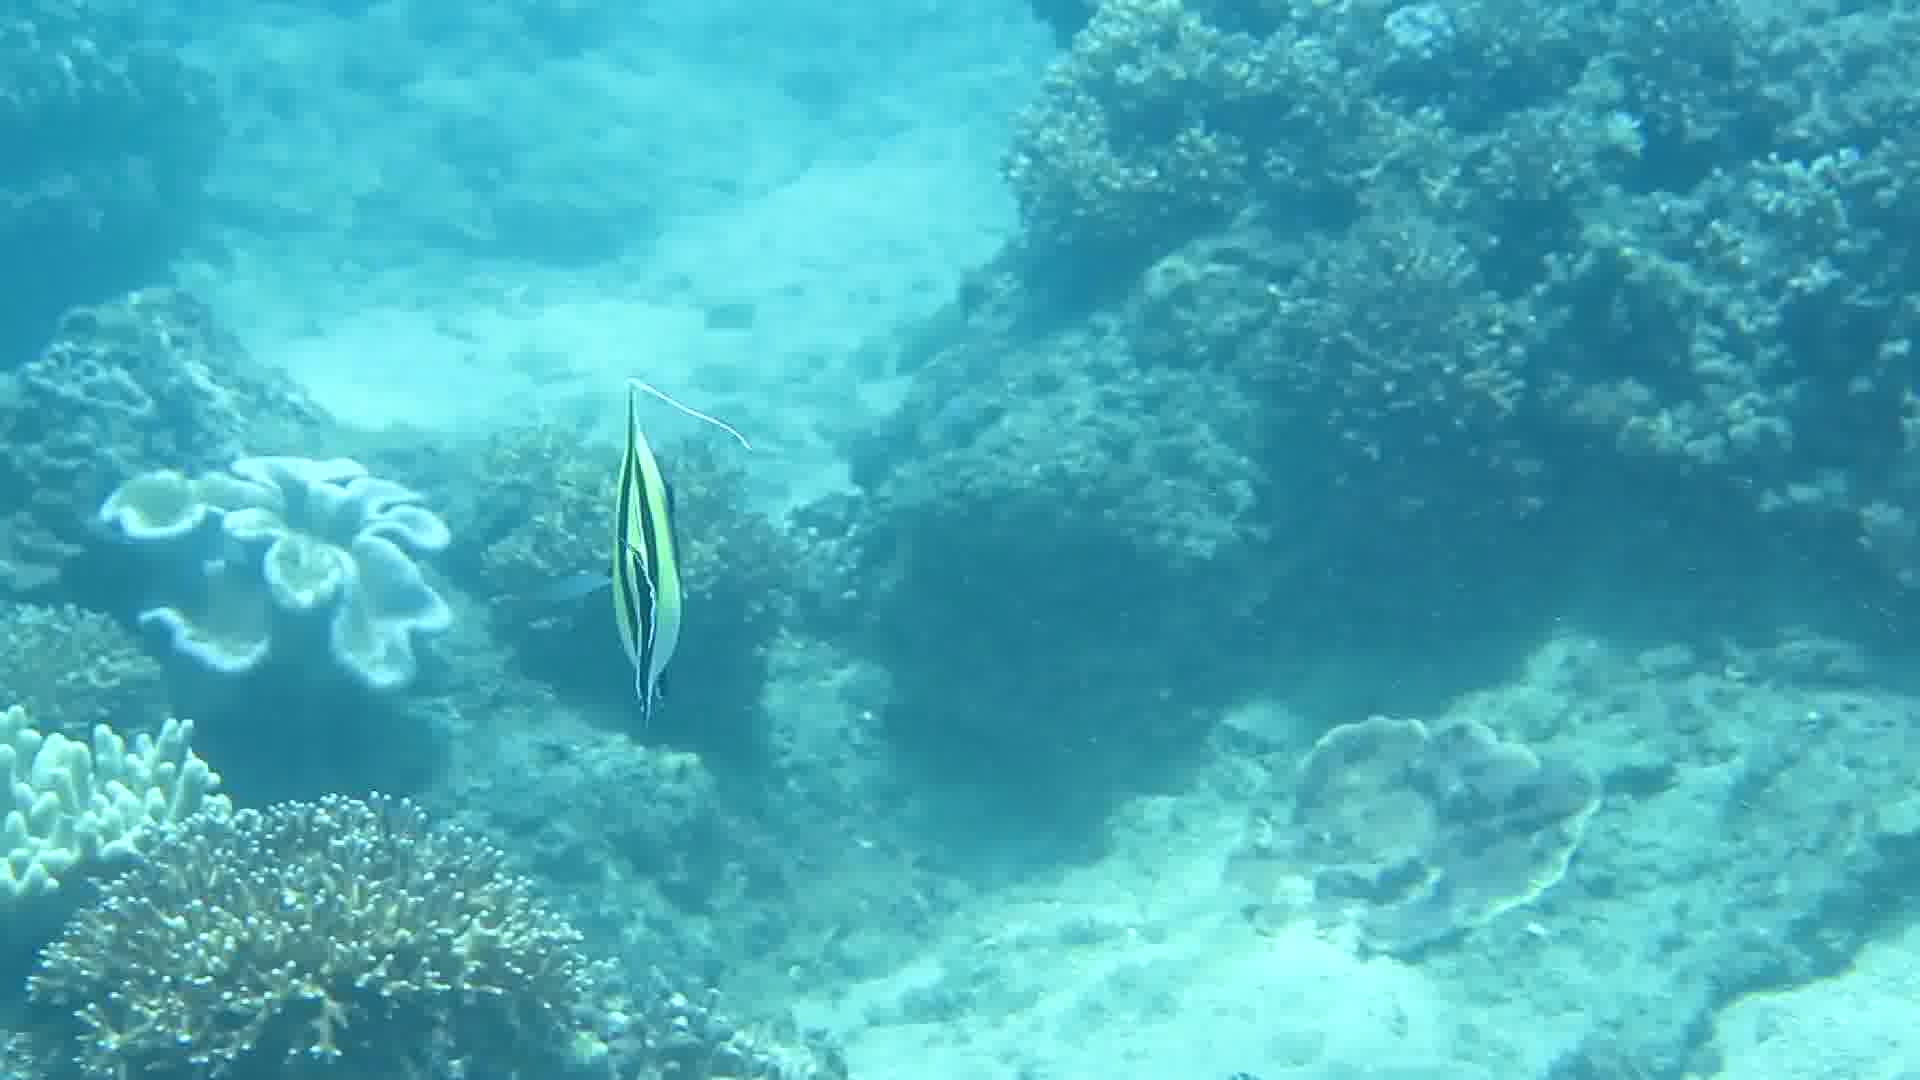Zanclus cornutus: (506, 386, 732, 745)
